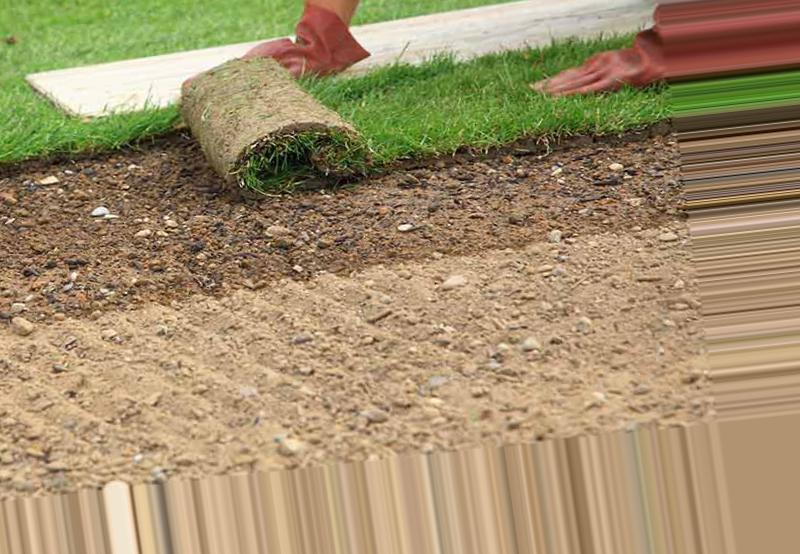patch: (5, 161, 680, 428)
